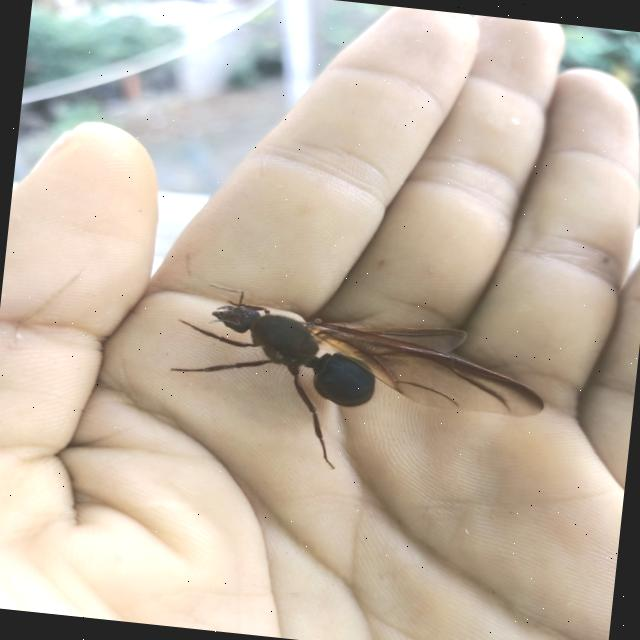Alive-Female-Alate: (162, 280, 553, 490)
